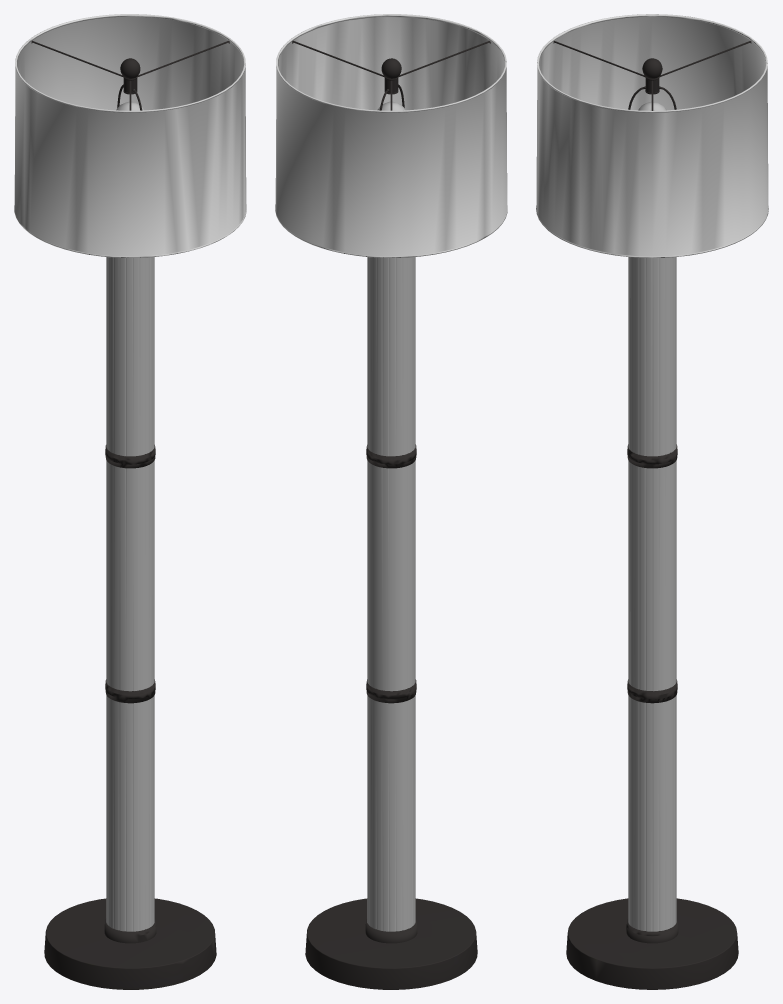
The model's file is B07DBCMTPC.glb.
The picture shows the model from 3 angles, left to right: view 1: azimuth 30°, elevation 25°; view 2: azimuth 150°, elevation 25°; view 3: azimuth 270°, elevation 25°; orthographic projection.
Parts seen in each view (by area): view 1: Root; view 2: Root; view 3: Root.
Part boxes in pixels (x1=…): Root: x1=14, y1=14, x2=246, y2=989; Root: x1=275, y1=14, x2=507, y2=989; Root: x1=536, y1=14, x2=768, y2=989.
Bounding box in the file's own units: 0.3772 × 1.6 × 0.3774.
Materials: 1 (1 with a texture image).
